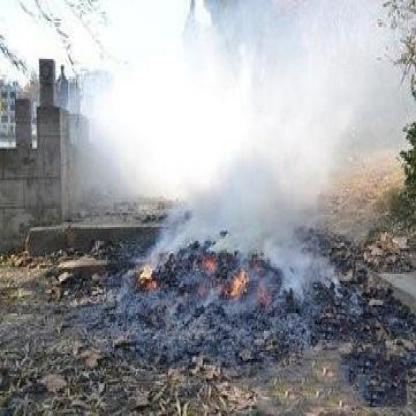fire: (126, 219, 294, 319)
smoke: (98, 52, 329, 250)
